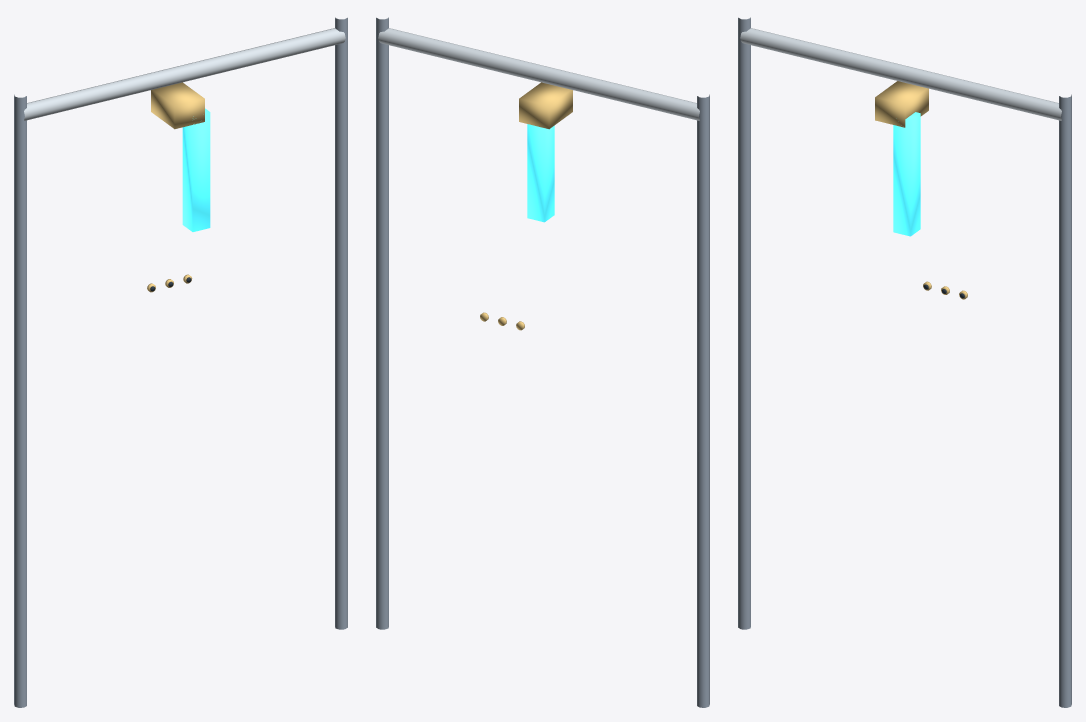
The model's file is 07_L90_InspectionServiceGantry.glb.
3 renders of one model, left to right at view 1: azimuth 30°, elevation 25°; view 2: azimuth 150°, elevation 25°; view 3: azimuth 330°, elevation 25°, orthographic.
Parts seen in each view (by area): view 1: L90_InspectionServiceGantry, L90_InspectionServiceGantry_Part_0003, L90_InspectionServiceGantry_Part_0002; view 2: L90_InspectionServiceGantry, L90_InspectionServiceGantry_Part_0003, L90_InspectionServiceGantry_Part_0002; view 3: L90_InspectionServiceGantry, L90_InspectionServiceGantry_Part_0003, L90_InspectionServiceGantry_Part_0002.
Boxes of the visible parts, box(x1,y1,x2,y2) form: L90_InspectionServiceGantry: box(14, 17, 347, 707); L90_InspectionServiceGantry_Part_0003: box(182, 108, 210, 231); L90_InspectionServiceGantry_Part_0002: box(151, 82, 204, 129); L90_InspectionServiceGantry: box(376, 17, 709, 707); L90_InspectionServiceGantry_Part_0003: box(527, 124, 554, 222); L90_InspectionServiceGantry_Part_0002: box(519, 82, 572, 129); L90_InspectionServiceGantry: box(738, 17, 1071, 707); L90_InspectionServiceGantry_Part_0003: box(893, 112, 920, 236); L90_InspectionServiceGantry_Part_0002: box(875, 81, 928, 127).
Size of the model in its own units: 5.7 by 10 by 1.14.
